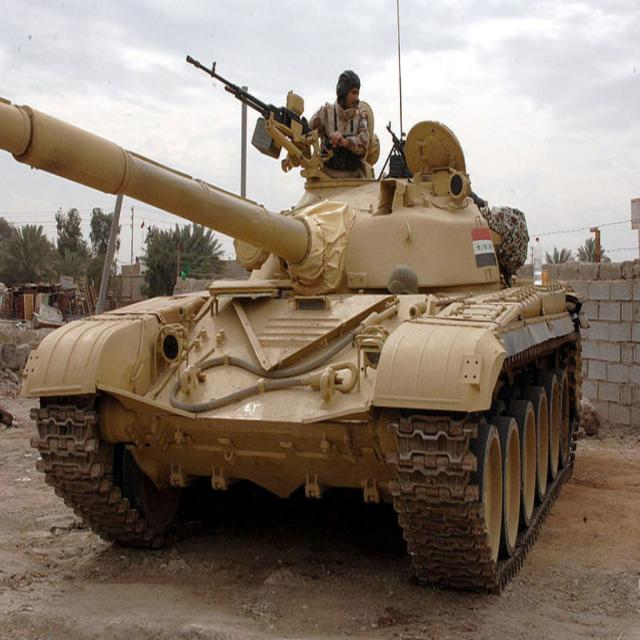tank: (0, 0, 592, 591)
